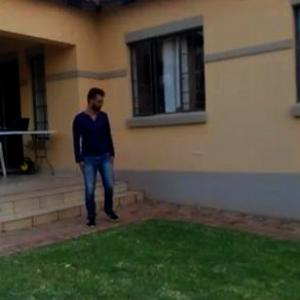follow: (74, 79, 119, 236)
